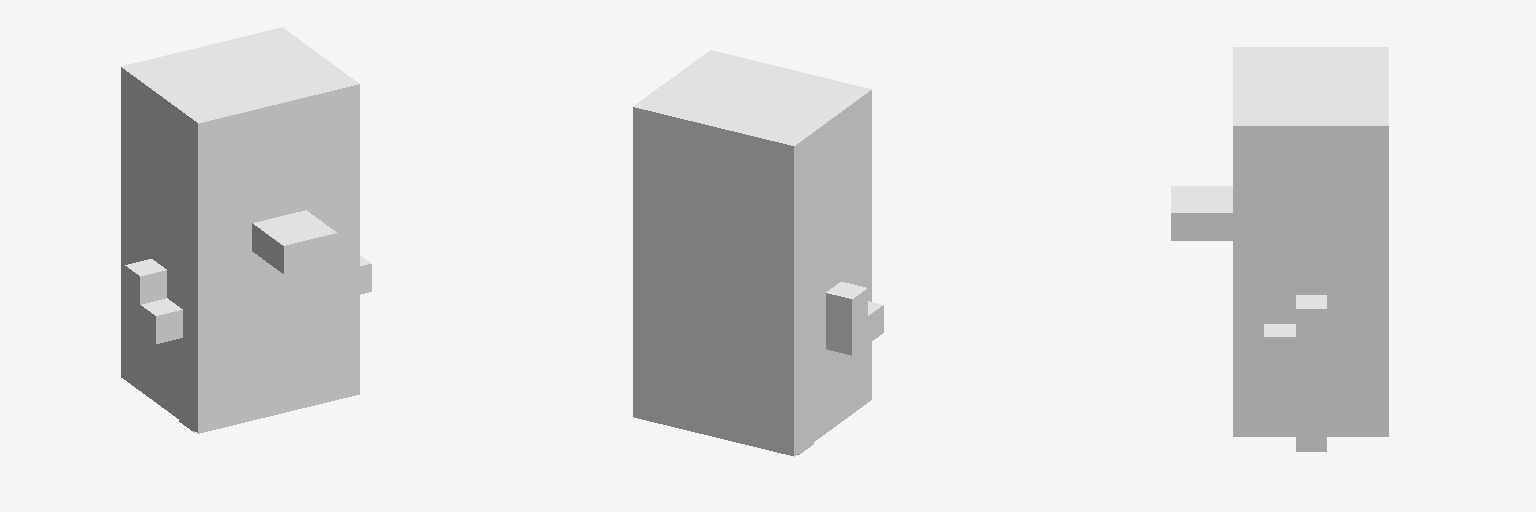
The model's file is grandma01-0.obj.
The picture shows the model from 3 angles: view 1: azimuth 30°, elevation 25°; view 2: azimuth 150°, elevation 25°; view 3: azimuth 270°, elevation 25°; orthographic projection.
Visible parts, largest first — view 1: grandma01-0; view 2: grandma01-0; view 3: grandma01-0.
Boxes of the visible parts, box(x1,y1,x2,y2) form: grandma01-0: box(121, 27, 371, 433); grandma01-0: box(633, 50, 883, 456); grandma01-0: box(1171, 47, 1388, 451).
Size of the model in its own units: 8 by 12 by 7.